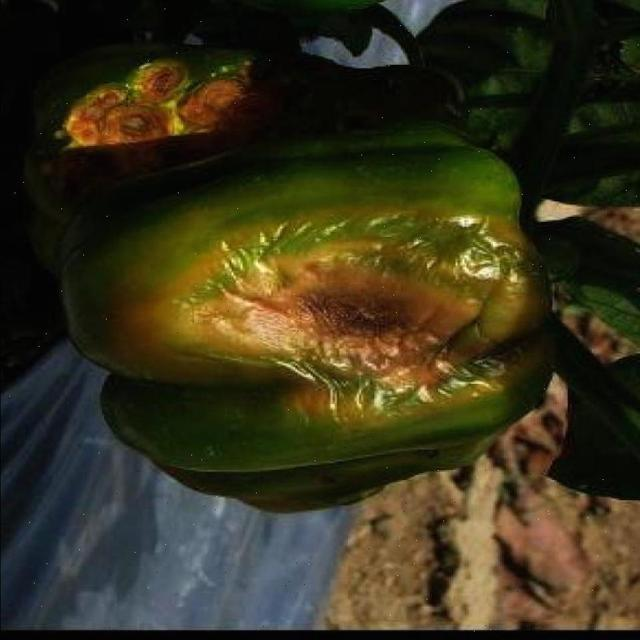Sunscald Fruit: (93, 126, 374, 290)
